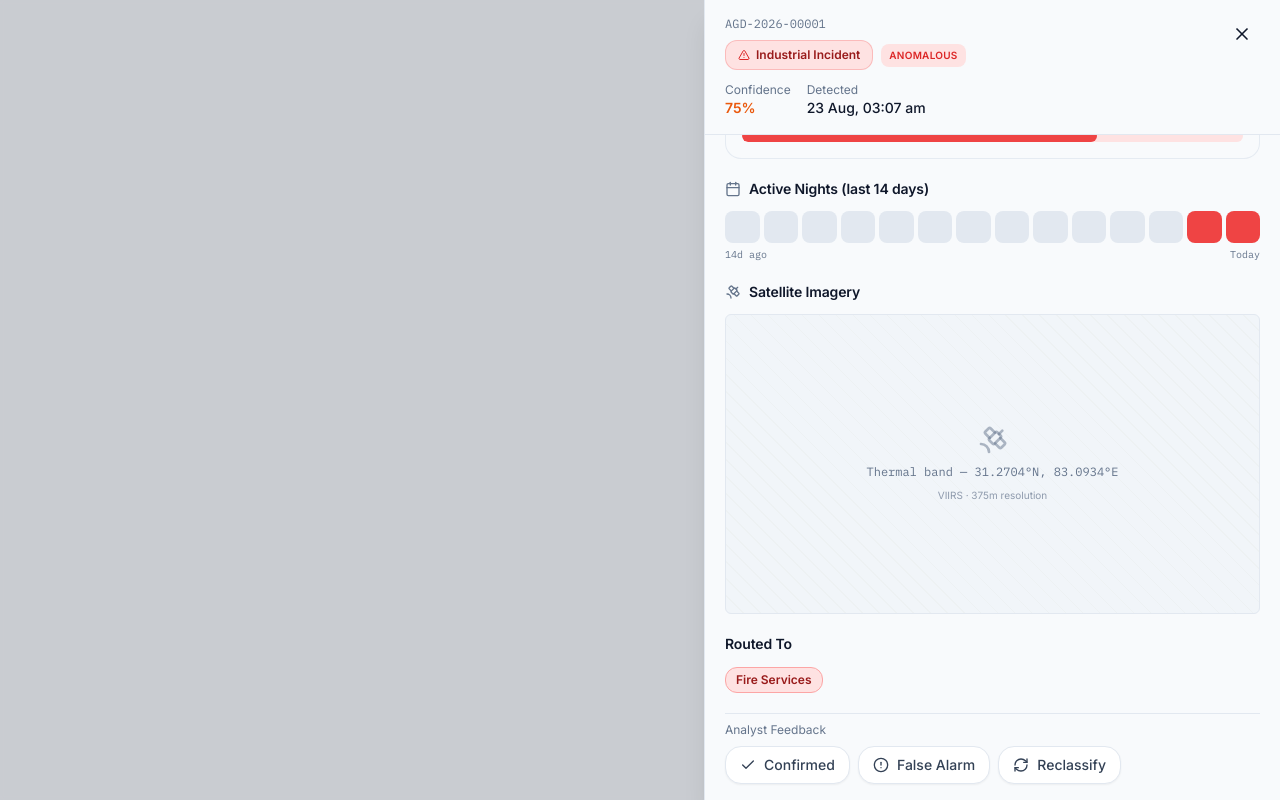
EventDetail — analyst feedback actions › disables action buttons while a confirm request is pending
(page scrolled)
Click the button "Confirmed" at (787, 765), box x1=725 y1=746 x2=850 y2=784
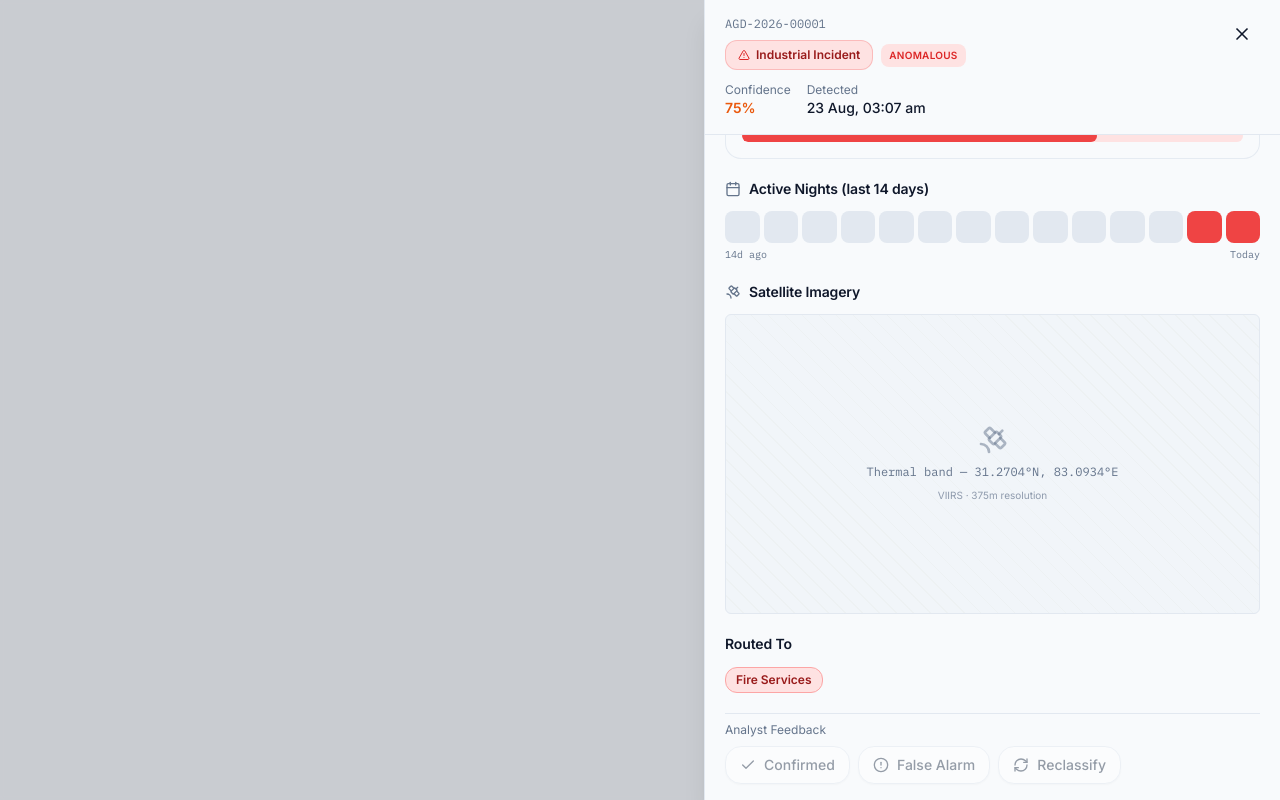
Expected: the button "Confirmed" is disabled, x1=725 y1=746 x2=850 y2=784
